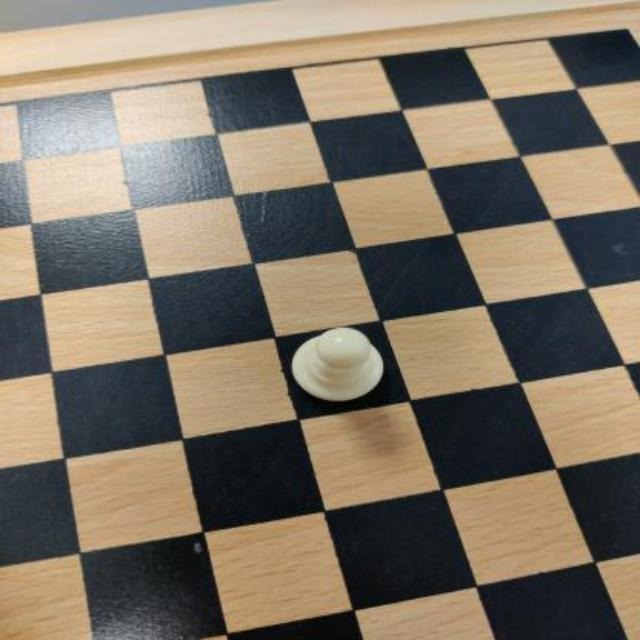white-pawn: (292, 325, 384, 400)
